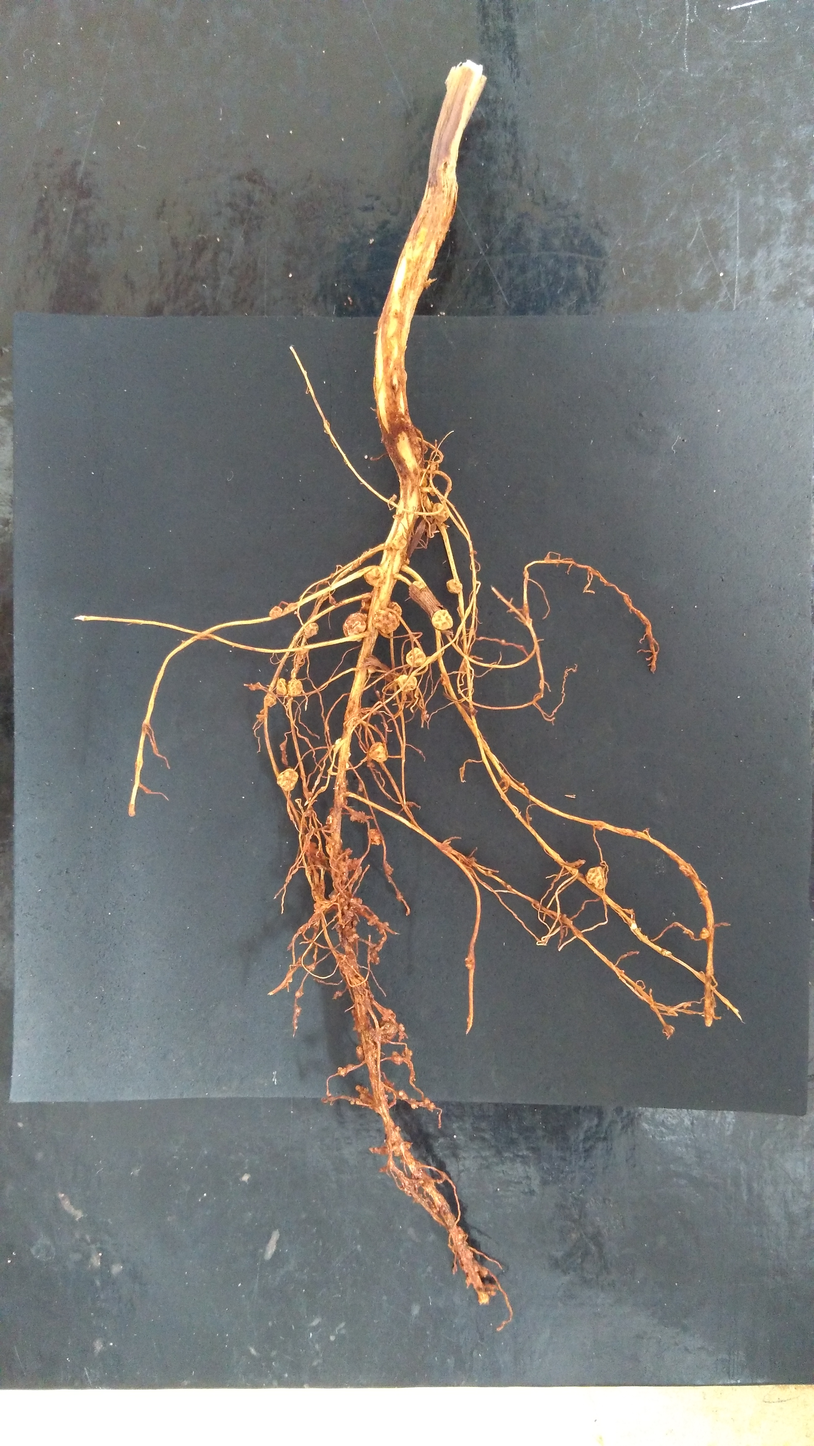nodule: (371, 602, 402, 634), (371, 1008, 398, 1044), (302, 840, 330, 872), (342, 612, 368, 642), (335, 890, 358, 914), (276, 768, 299, 792), (584, 866, 607, 890), (275, 677, 303, 696), (363, 565, 386, 588), (352, 975, 368, 1004), (431, 609, 453, 630), (351, 1008, 370, 1032), (331, 859, 349, 884), (368, 741, 389, 762), (431, 502, 452, 522), (405, 647, 426, 667), (356, 707, 376, 726), (397, 673, 418, 691), (390, 529, 407, 549), (424, 516, 439, 538), (302, 620, 319, 639), (357, 593, 372, 613), (367, 828, 383, 846), (359, 1087, 375, 1105), (393, 1142, 412, 1157), (446, 578, 463, 593), (366, 1143, 389, 1154), (345, 857, 361, 872), (263, 692, 277, 708), (679, 862, 693, 878), (349, 811, 365, 824), (268, 606, 283, 619), (335, 921, 344, 942), (369, 949, 380, 966), (376, 921, 390, 934), (391, 1050, 403, 1065), (383, 859, 394, 875), (356, 1045, 366, 1062), (366, 914, 379, 926), (699, 927, 711, 940), (349, 896, 363, 907), (383, 1079, 394, 1093), (414, 443, 422, 462), (328, 890, 339, 903), (398, 1089, 409, 1101), (419, 441, 429, 454), (386, 681, 399, 691), (464, 956, 474, 969), (283, 602, 297, 611), (521, 602, 530, 616), (379, 1164, 390, 1175), (356, 777, 364, 792), (409, 1097, 419, 1109), (464, 1249, 474, 1261), (429, 483, 438, 496), (400, 1048, 413, 1057), (337, 1066, 348, 1076), (479, 1267, 489, 1278), (429, 462, 440, 472), (304, 807, 314, 817), (419, 466, 428, 477), (342, 847, 354, 855), (302, 791, 314, 799), (255, 714, 267, 722), (248, 683, 260, 691), (367, 664, 376, 674), (334, 737, 343, 747), (395, 890, 403, 901), (326, 814, 334, 825), (421, 710, 429, 721), (421, 476, 428, 488), (405, 800, 414, 809), (306, 962, 315, 971), (398, 1022, 406, 1032), (681, 1001, 691, 1009), (313, 901, 322, 909), (413, 466, 421, 475), (366, 761, 376, 768), (294, 1006, 301, 1016), (428, 1102, 436, 1110), (347, 935, 355, 943), (351, 919, 359, 927), (346, 1063, 355, 1070), (295, 990, 302, 999), (424, 1096, 431, 1104), (349, 1098, 356, 1106), (335, 989, 342, 997), (352, 933, 360, 940), (259, 707, 266, 715), (355, 1084, 362, 1091), (391, 494, 397, 502), (404, 557, 410, 565), (395, 1125, 401, 1132), (351, 927, 357, 934), (343, 904, 349, 911), (342, 798, 348, 805), (560, 913, 566, 920), (345, 761, 350, 769), (312, 952, 317, 960), (486, 869, 492, 875), (473, 548, 478, 555), (297, 956, 302, 963), (369, 994, 375, 999), (293, 610, 298, 616), (375, 689, 380, 694), (347, 751, 351, 757), (466, 1016, 470, 1022), (364, 454, 368, 460), (384, 1094, 389, 1098)
